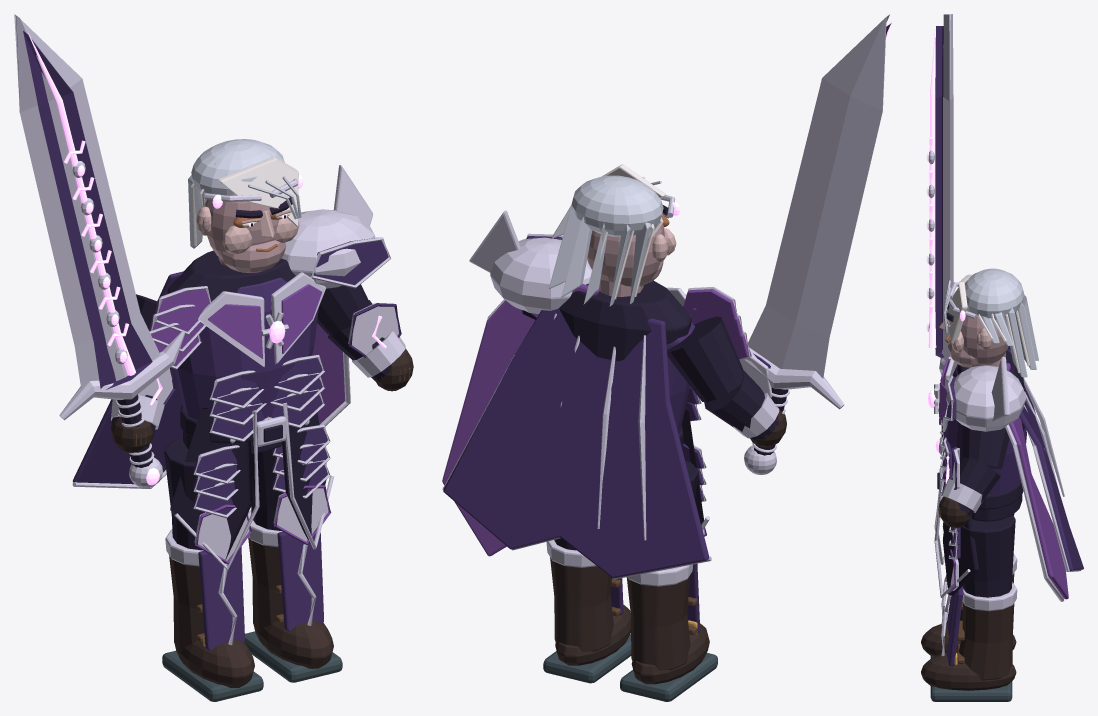
The model's file is magic-swordsman.glb.
3 views of the same model, side by side, from view 1: azimuth 30°, elevation 25°; view 2: azimuth 150°, elevation 25°; view 3: azimuth 270°, elevation 25° (orthographic). The views are drawn at different scales.
Parts seen in each view (by area): view 1: Swordsman — moon platinum mesh.006, Swordsman — midnight amethyst mesh, Swordsman — void velvet mesh, Swordsman — moon platinum mesh.003, Swordsman — midnight amethyst mesh.005, Swordsman — moon platinum mesh.004, Swordsman — midnight amethyst mesh.001, Swordsman — satin violet mesh, Weathered dark leather mesh.002, Weathered dark leather mesh, Swordsman — midnight amethyst mesh.002, Swordsman — flowing silver hair mesh (+17 smaller); view 2: Swordsman — midnight amethyst mesh, Swordsman — moon platinum mesh.006, Swordsman — flowing silver hair mesh, Swordsman — void velvet mesh, Weathered dark leather mesh, Weathered dark leather mesh.002, Swordsman — void velvet mesh.002, Swordsman — moon platinum mesh.003, Swordsman — satin violet mesh, Swordsman — moon platinum mesh.004, Swordsman — cool pale skin mesh, Swordsman — satin violet mesh.003 (+7 smaller); view 3: Weathered dark leather mesh.002, Swordsman — moon platinum mesh.003, Swordsman — flowing silver hair mesh, Swordsman — moon platinum mesh.006, Swordsman — midnight amethyst mesh, Swordsman — moon platinum mesh.004, Swordsman — void velvet mesh.003, Swordsman — void velvet mesh, Swordsman — satin violet mesh, Swordsman — void velvet mesh.004, Swordsman — midnight amethyst mesh.005, Swordsman — living runes mesh.004 (+9 smaller).
Part boxes in pixels (x1,y1,x2,y2): Swordsman — moon platinum mesh.006: [14, 14, 185, 487]; Swordsman — midnight amethyst mesh: [72, 271, 322, 484]; Swordsman — void velvet mesh: [167, 250, 326, 562]; Swordsman — moon platinum mesh.003: [281, 165, 405, 377]; Swordsman — midnight amethyst mesh.005: [23, 31, 152, 389]; Swordsman — moon platinum mesh.004: [72, 272, 350, 570]; Swordsman — midnight amethyst mesh.001: [193, 446, 244, 650]; Swordsman — satin violet mesh: [208, 284, 345, 424]; Weathered dark leather mesh.002: [248, 537, 333, 668]; Weathered dark leather mesh: [169, 555, 254, 687]; Swordsman — midnight amethyst mesh.002: [272, 425, 327, 631]; Swordsman — flowing silver hair mesh: [188, 139, 301, 248]; Swordsman — midnight amethyst mesh: [443, 308, 709, 577]; Swordsman — moon platinum mesh.006: [744, 14, 889, 474]; Swordsman — flowing silver hair mesh: [549, 175, 663, 306]; Swordsman — void velvet mesh: [559, 280, 703, 524]; Weathered dark leather mesh: [626, 575, 709, 684]; Weathered dark leather mesh.002: [550, 557, 630, 665]; Swordsman — void velvet mesh.002: [667, 316, 779, 440]; Swordsman — moon platinum mesh.003: [469, 210, 591, 313]; Swordsman — satin violet mesh: [442, 284, 686, 556]; Swordsman — moon platinum mesh.004: [442, 287, 711, 579]; Swordsman — cool pale skin mesh: [587, 213, 669, 297]; Swordsman — satin violet mesh.003: [683, 289, 749, 359]; Weathered dark leather mesh.002: [921, 602, 1016, 690]; Swordsman — moon platinum mesh.003: [941, 356, 1026, 512]; Swordsman — flowing silver hair mesh: [943, 268, 1038, 377]; Swordsman — moon platinum mesh.006: [928, 14, 953, 454]; Swordsman — midnight amethyst mesh: [942, 349, 1083, 570]; Swordsman — moon platinum mesh.004: [934, 357, 1081, 601]; Swordsman — void velvet mesh.003: [960, 515, 1015, 597]; Swordsman — void velvet mesh: [937, 350, 1025, 595]; Swordsman — satin violet mesh: [939, 359, 1068, 599]; Swordsman — void velvet mesh.004: [951, 425, 1009, 517]; Swordsman — midnight amethyst mesh.005: [935, 26, 943, 358]; Swordsman — living runes mesh.004: [926, 24, 939, 453].
Size of the model in its own units: 1.83 by 3.19 by 0.8288.
